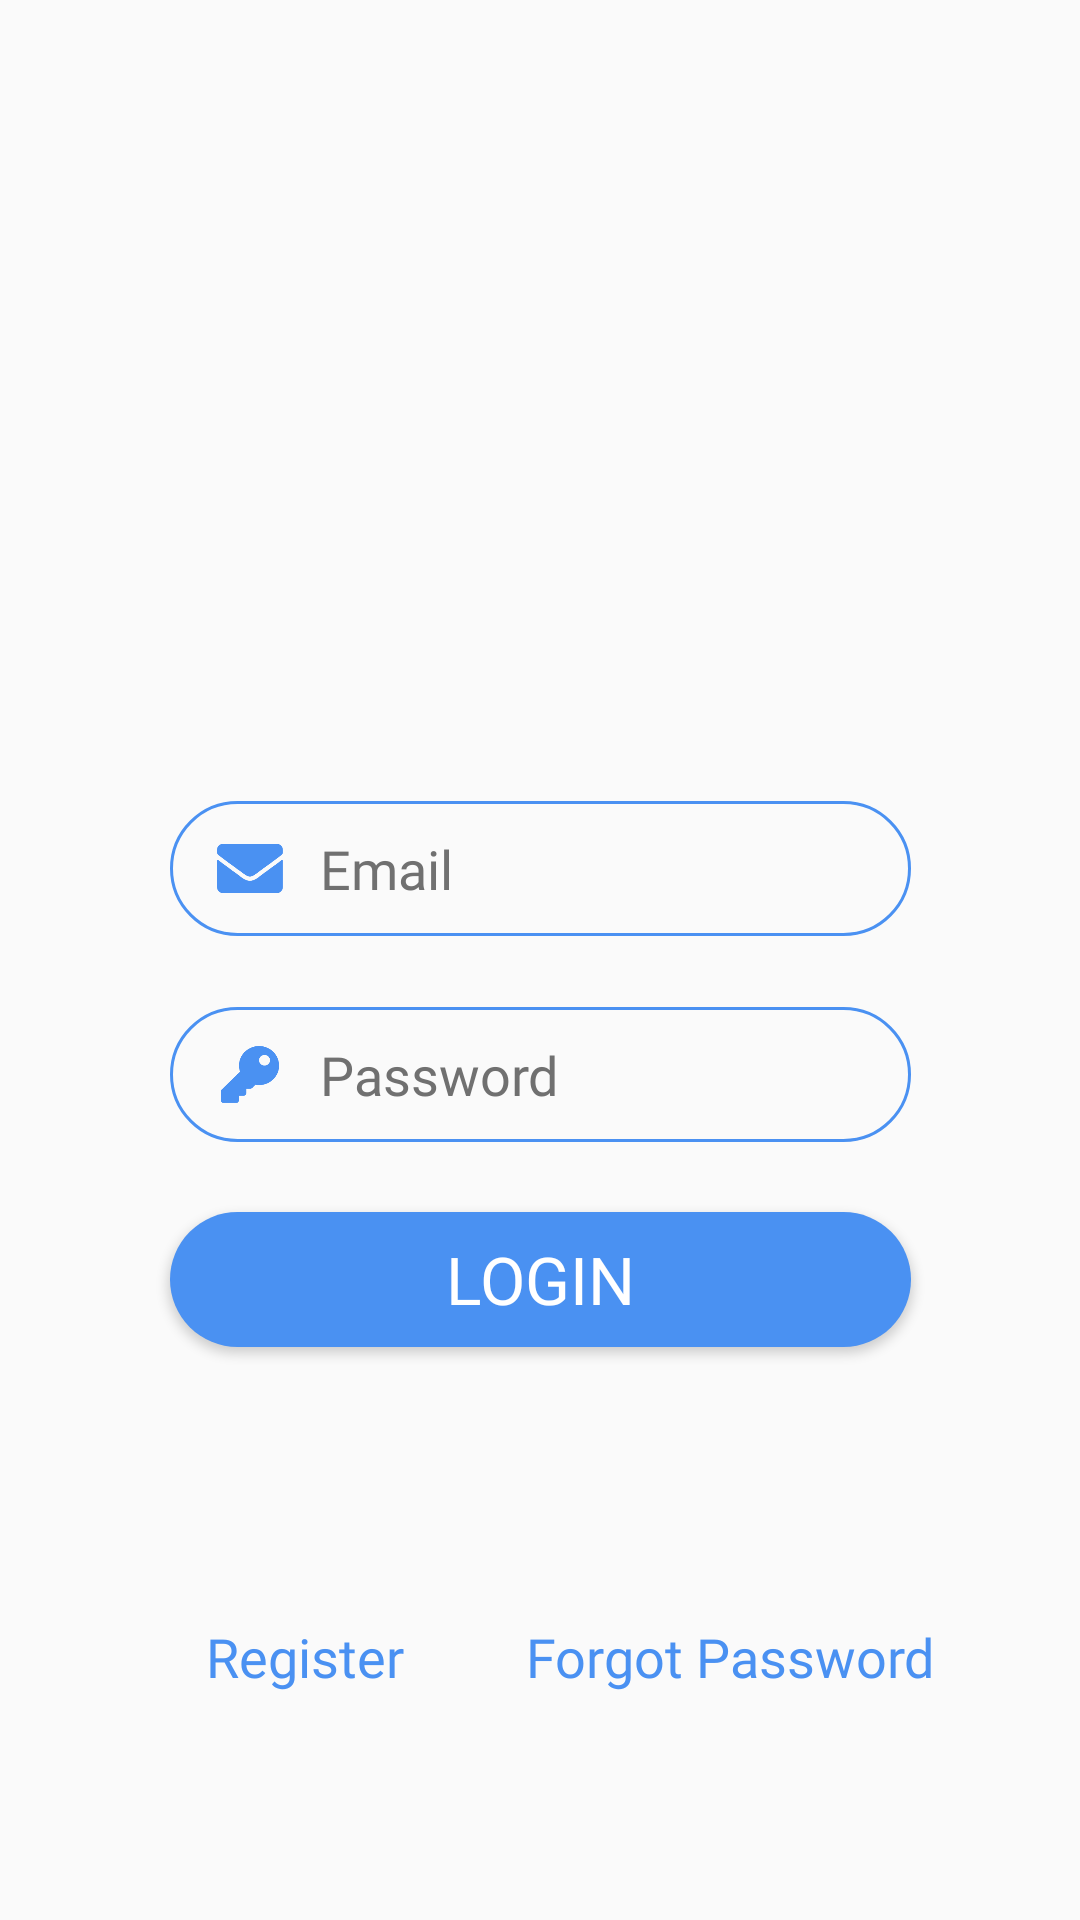

Icons on this 1080×1920 Android screen, each with the point to tap as [x,y]:
key: [250,1074]
